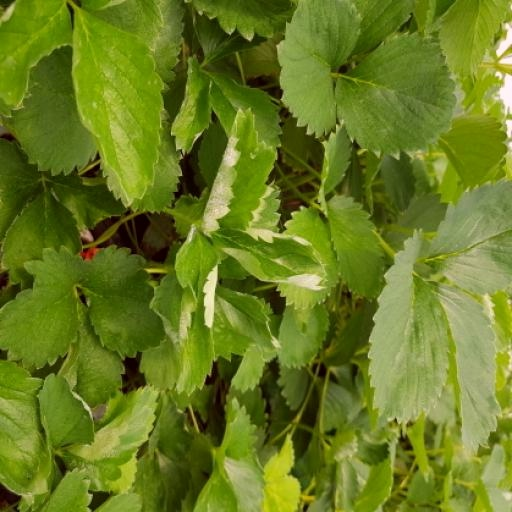Powdery Mildew Leaf: (346, 8, 440, 208), (235, 107, 313, 234), (184, 228, 302, 291), (294, 222, 339, 327), (231, 281, 298, 350), (416, 374, 475, 450), (314, 272, 363, 351)
